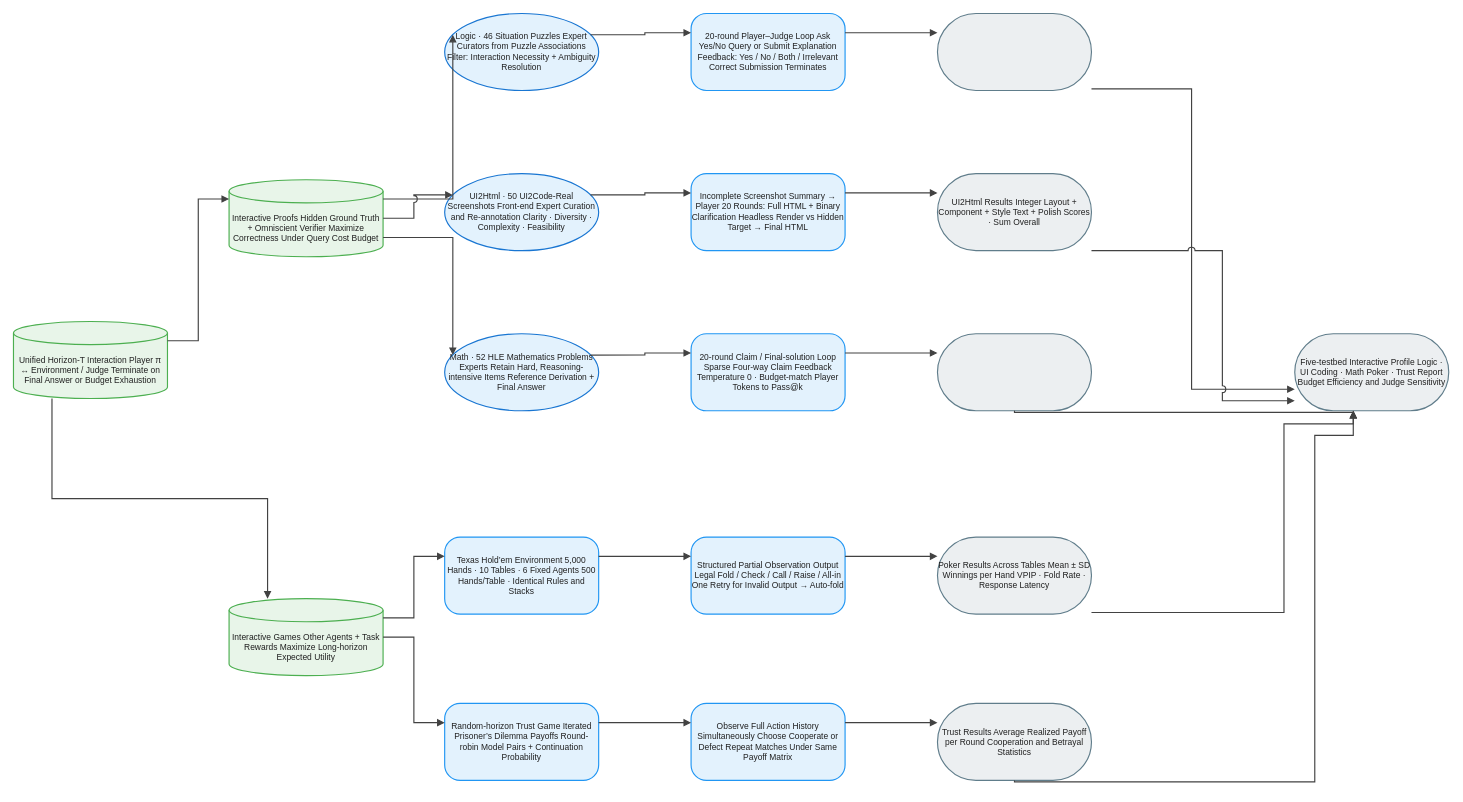
Image size: 1463x802. Some labels were removed from this diagram. The shapes that lost their labels are listed below. From the top down, each one's centre as x and y in pixels, then its label:
(1014,52): Logic Results Accuracy Within Budget Average Turns on Solved Puzzles
(1014,372): Math Results Accuracy + Average Turns on Solved Compare Budget-matched Pass@k
